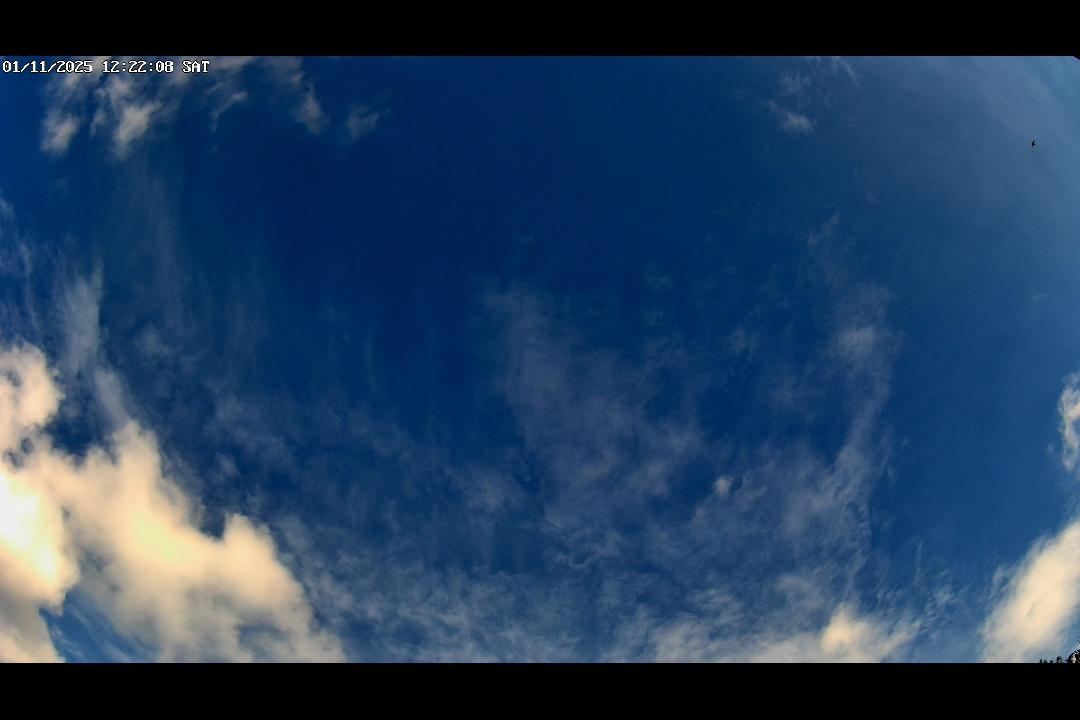WildLife: (1019, 135, 1046, 152)
